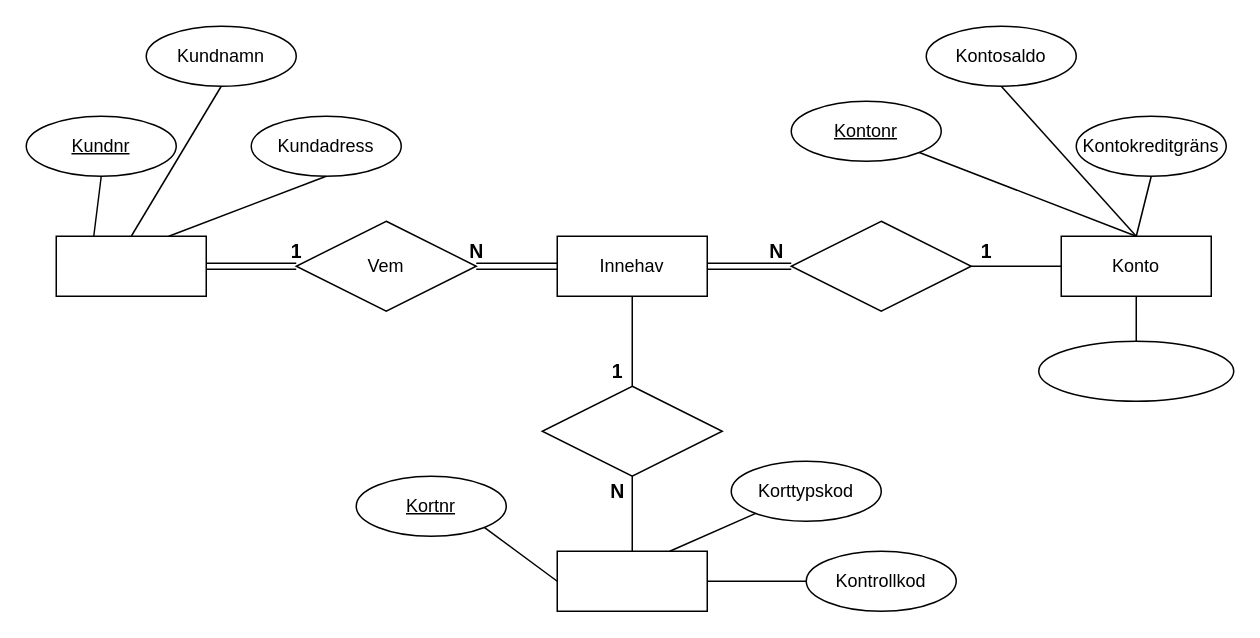
Some shapes in this 1260 by 638 pixel diagram are drawn without their labels. Each missing label, with the centre of its shape:
"Hör till" goes at pixel 631 430.
"Kontotypsbenämning" goes at pixel 1135 370.
"Kort" goes at pixel 631 580.
"Kund" goes at pixel 130 265.
"Vad" goes at pixel 880 265.
